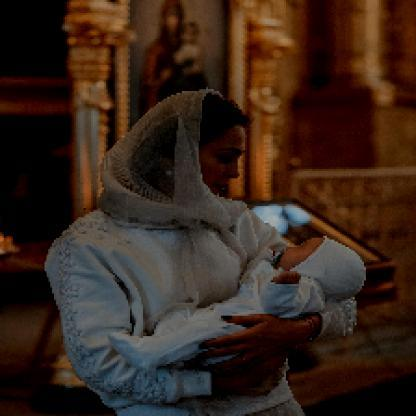child: (107, 235, 369, 372)
